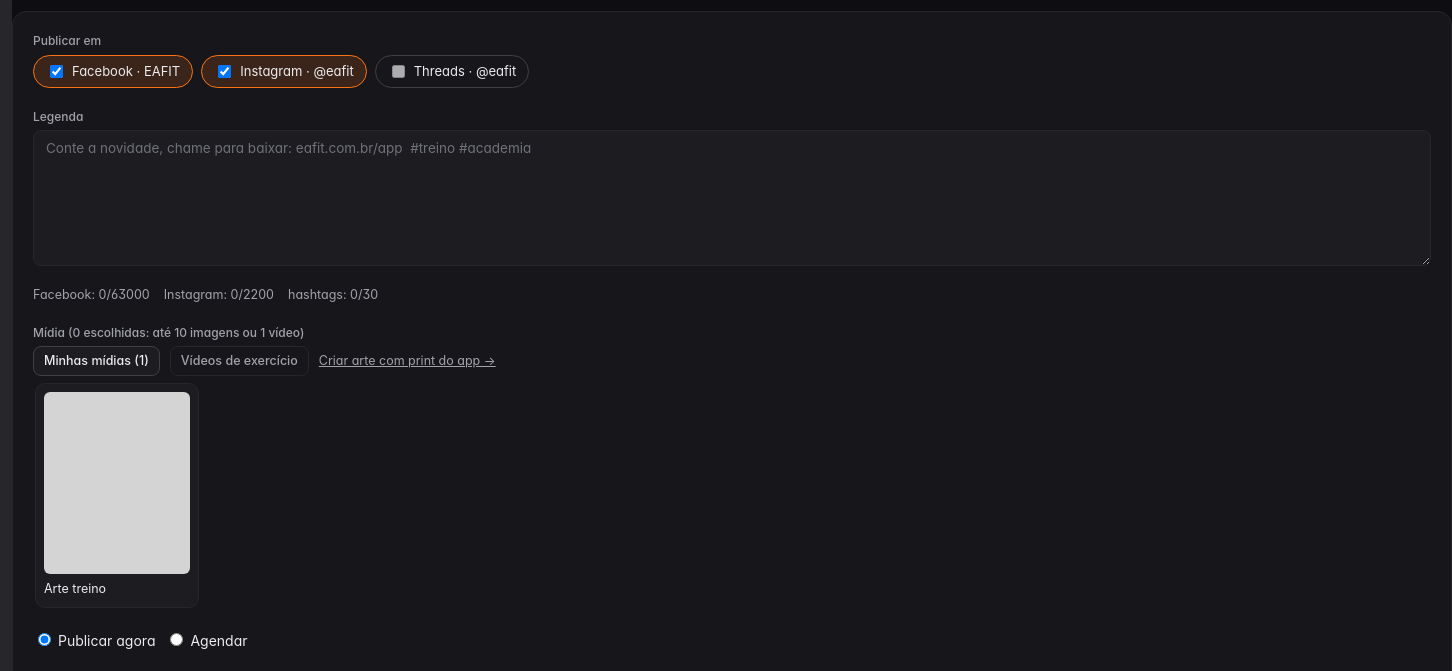
Scenario: MarketingPublish › não deixa publicar no Instagram sem mídia
Replace the text in the text box with placeholder "Conte a novidade" with "Só texto" at x=732, y=198, box top-left (33, 130), bottom-right (1431, 266)
(page scrolled)
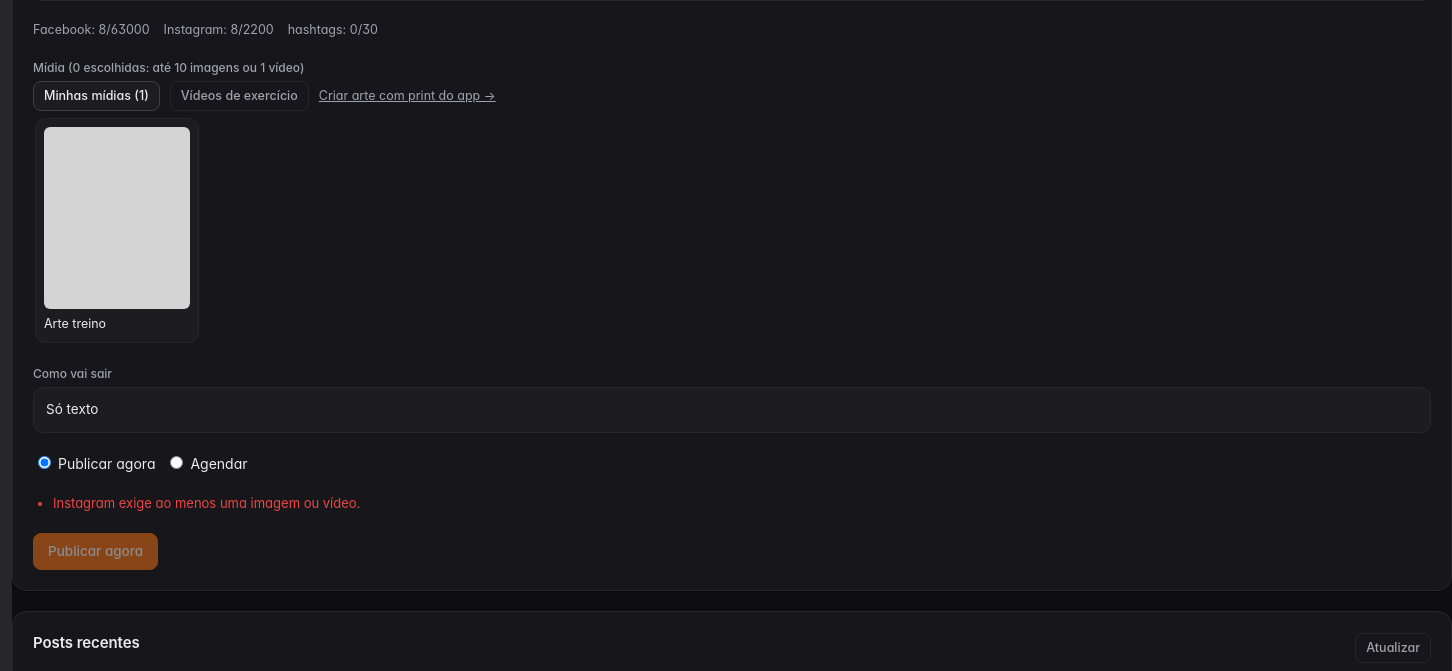
Expected: the button "Publicar agora" is disabled, top-left (33, 533), bottom-right (158, 570)
Now the list item "Instagram exige ao menos uma imagem ou vídeo." is shown, box top-left (53, 495), bottom-right (360, 511)
